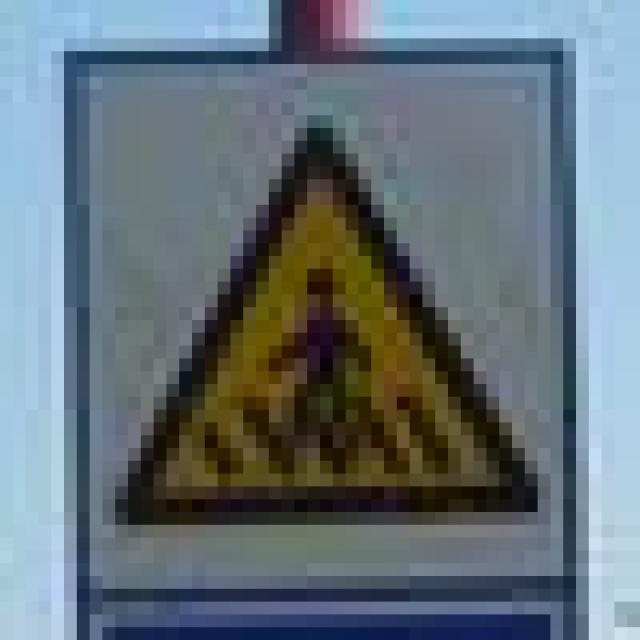pass_either_side: (90, 102, 550, 512)
